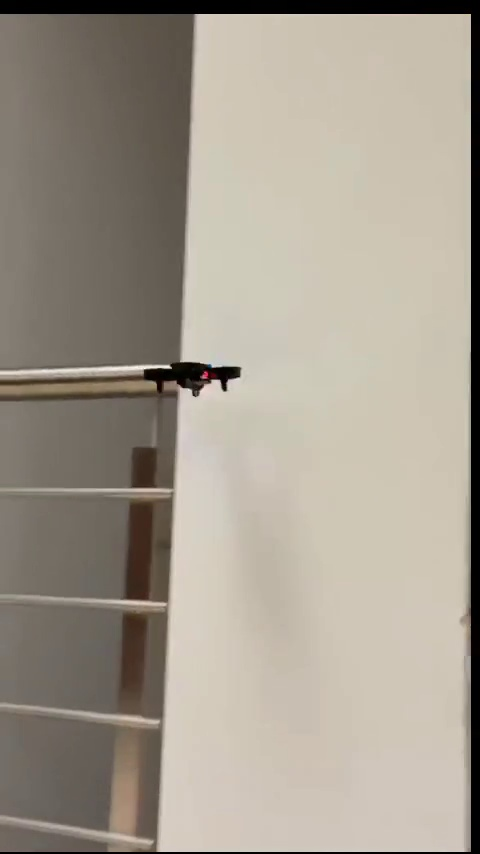drone: (140, 359, 249, 398)
